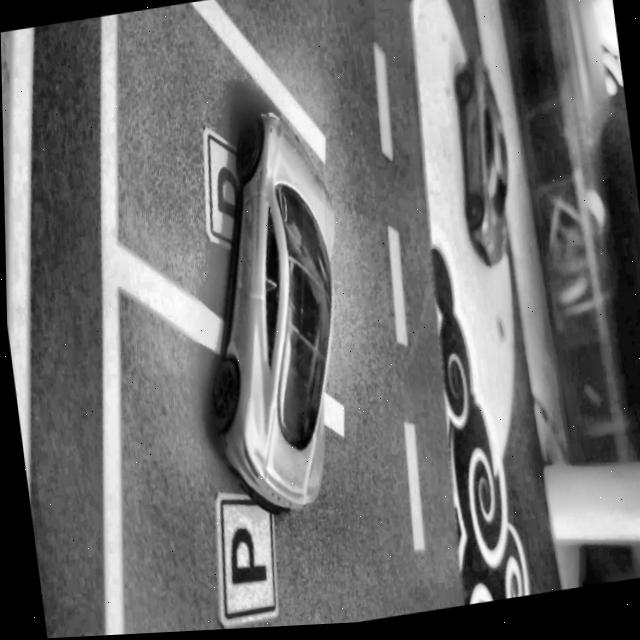car: (173, 105, 369, 528), (444, 55, 521, 276)
